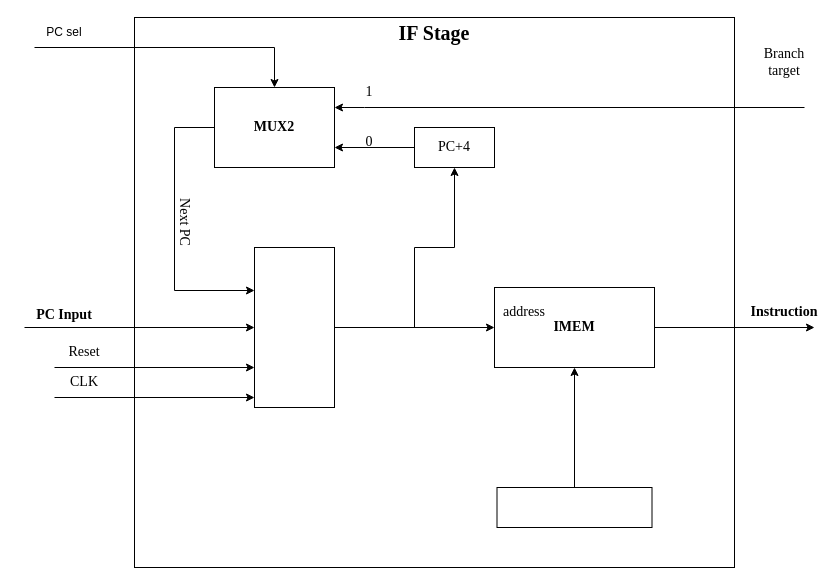
The diagram is 840 pixels wide and 585 high, and some of its shapes have lost their labels. The shapes that lost their labels are listed below. From the top down, each one's centre as x and y in pixels, then its label:
At (x=294, y=327): "PC".
At (x=574, y=507): "Instruction Memory (program)".
